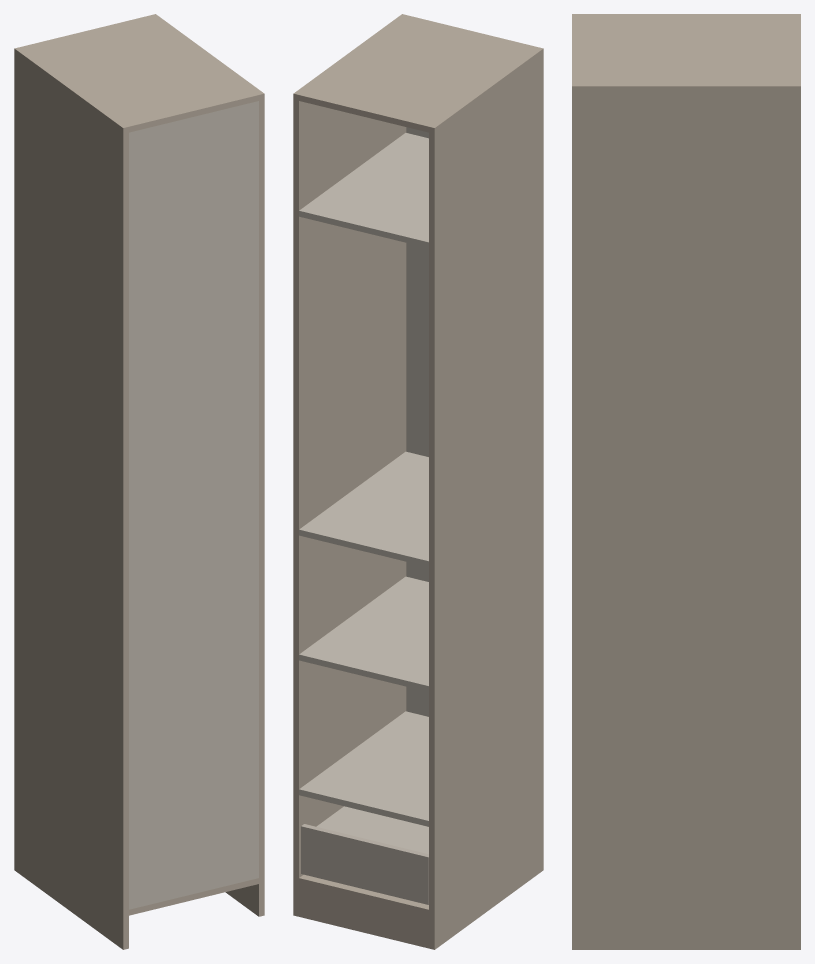
3 renders of one model, left to right at view 1: azimuth 30°, elevation 25°; view 2: azimuth 150°, elevation 25°; view 3: azimuth 270°, elevation 25°, orthographic. The views are drawn at different scales.
Parts seen in each view (by area): view 1: 004_ARKALIK, 000_GOVDE_SOL, 002_GOVDE_UST, 001_GOVDE_SAG, 003_GOVDE_ALT; view 2: 000_GOVDE_SOL, 001_GOVDE_SAG, 002_GOVDE_UST, 006_RAF_1, 007_RAF_2, 008_RAF_3, 009_RAF_4, 010_CEKMECE_ON_1, 004_ARKALIK, 005_BAZA, 011_CEKMECE_KUTU_1, 003_GOVDE_ALT; view 3: 001_GOVDE_SAG, 002_GOVDE_UST, 000_GOVDE_SOL.
Boxes of the visible parts, <box> form: 004_ARKALIK: <box>129,101,258,909</box>; 000_GOVDE_SOL: <box>14,47,128,949</box>; 002_GOVDE_UST: <box>20,15,258,132</box>; 001_GOVDE_SAG: <box>150,14,264,916</box>; 003_GOVDE_ALT: <box>129,878,258,915</box>; 000_GOVDE_SOL: <box>429,47,543,949</box>; 001_GOVDE_SAG: <box>293,14,407,916</box>; 002_GOVDE_UST: <box>299,15,537,132</box>; 006_RAF_1: <box>299,711,428,826</box>; 007_RAF_2: <box>299,576,428,691</box>; 008_RAF_3: <box>299,451,428,566</box>; 009_RAF_4: <box>299,133,428,248</box>; 010_CEKMECE_ON_1: <box>301,824,428,904</box>; 004_ARKALIK: <box>406,127,428,716</box>; 005_BAZA: <box>299,884,428,948</box>; 011_CEKMECE_KUTU_1: <box>316,806,428,854</box>; 003_GOVDE_ALT: <box>299,874,428,915</box>; 001_GOVDE_SAG: <box>572,83,800,949</box>; 002_GOVDE_UST: <box>572,17,800,83</box>; 000_GOVDE_SOL: <box>572,14,800,16</box>.
Size of the model in its own units: 0.45 by 2.5 by 0.6.
